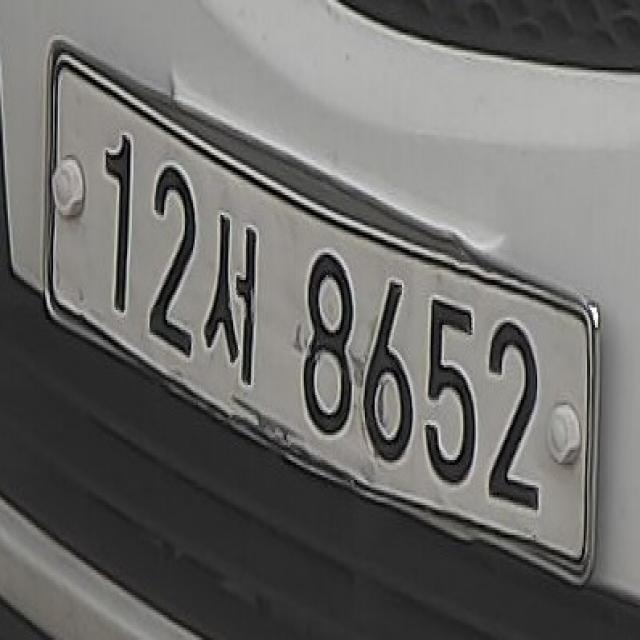1: (100, 125, 133, 328)
2: (484, 312, 545, 520), (148, 160, 197, 365)
5: (423, 296, 478, 496)
6: (362, 277, 415, 467)
8: (294, 230, 356, 450)
license_plate: (39, 39, 601, 594)
seo: (202, 200, 266, 394)
